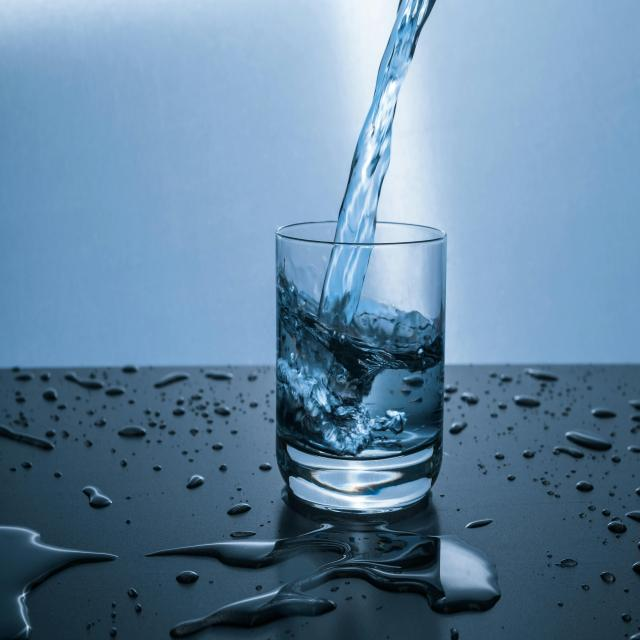glass: (269, 227, 472, 518)
